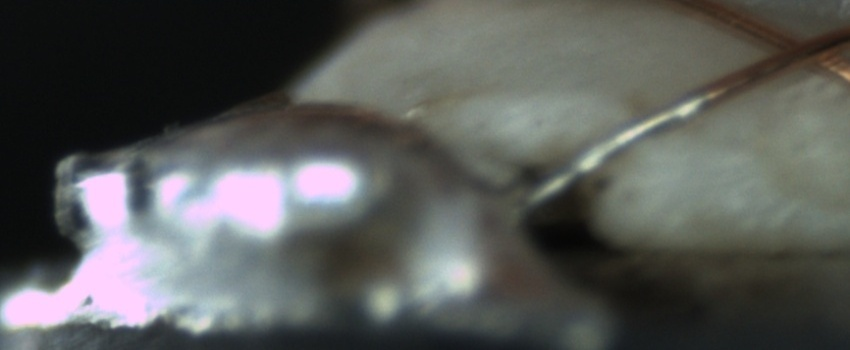CL: (754, 18, 845, 77)
TS: (524, 94, 710, 210)
TTCW: (522, 65, 756, 206)
